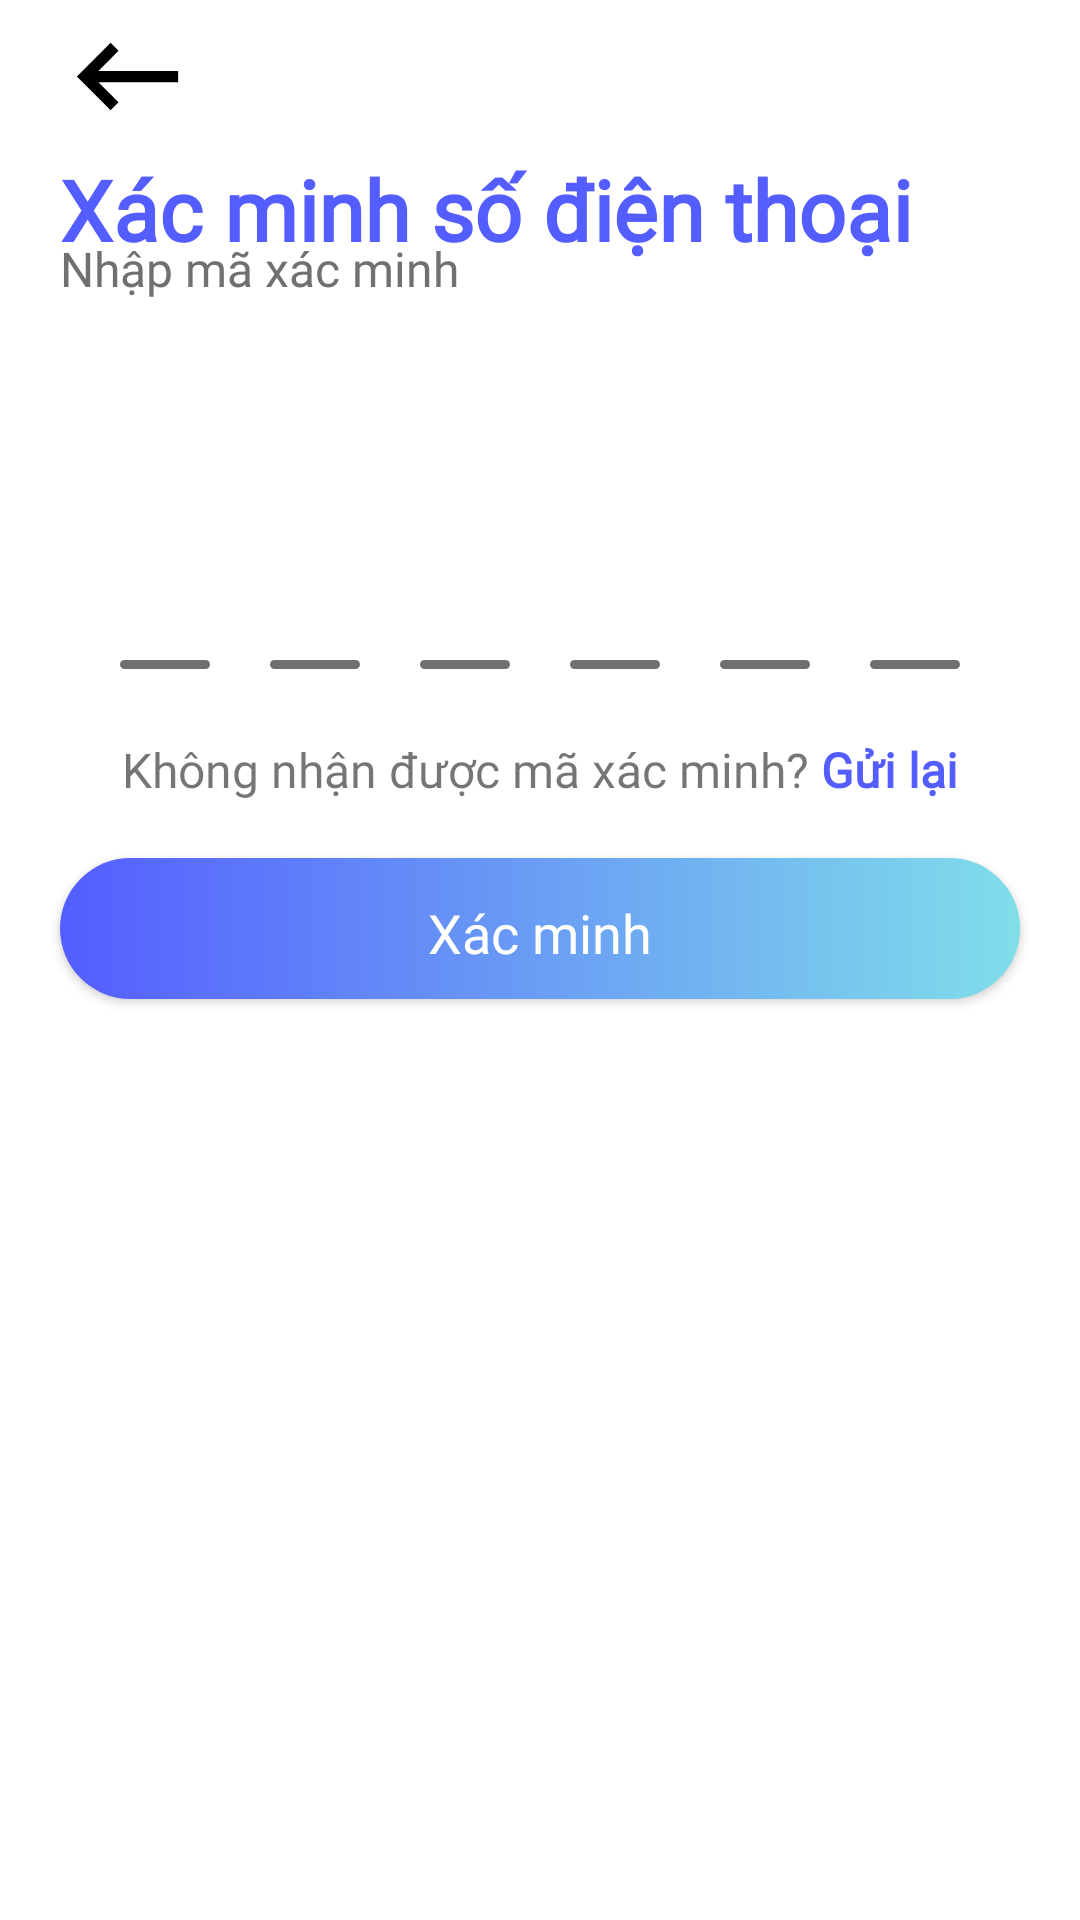

Icons on this 1080px x 1920px Android screen, each with the point to tap as [x,y]:
keyboard backspace: [128,76]
